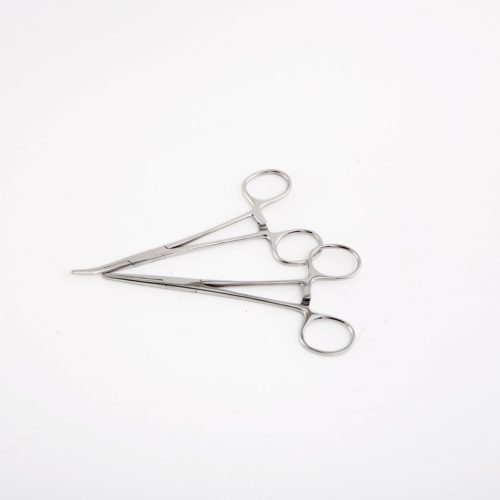mosquito clamp: (101, 241, 365, 359), (67, 166, 323, 278)
